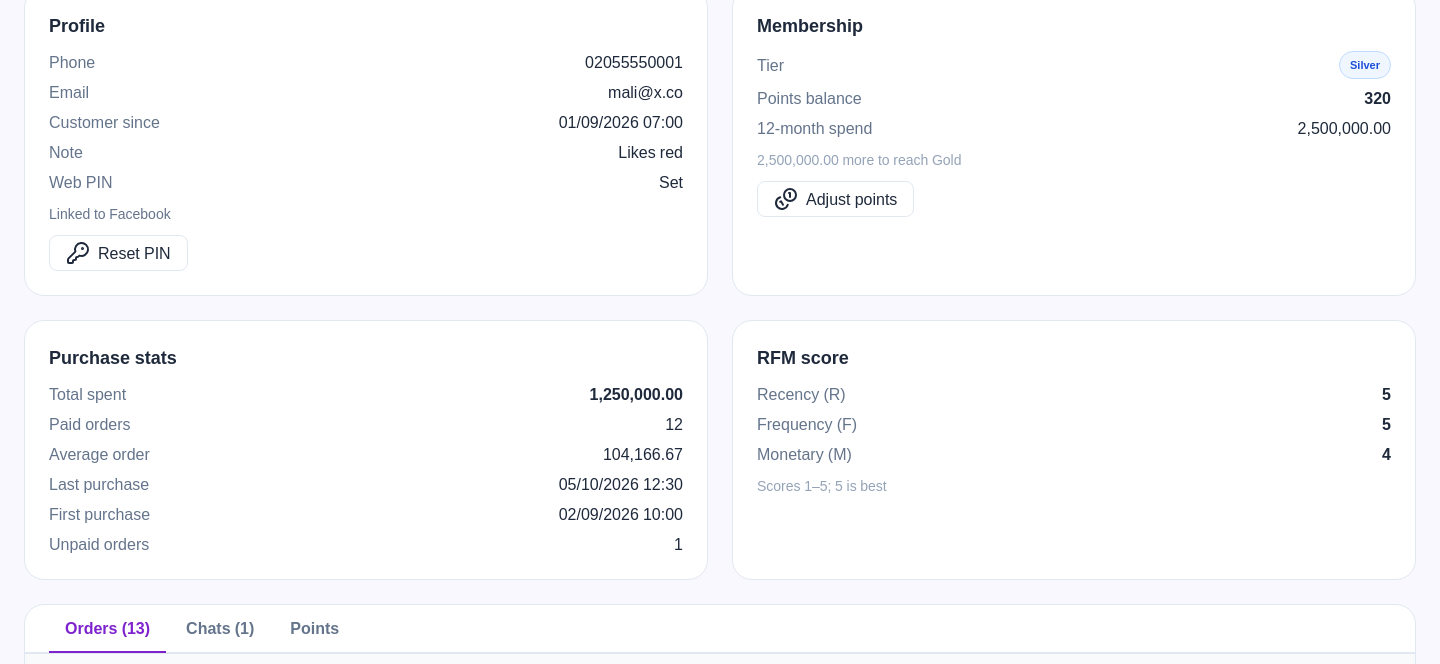
Test: CustomerDetail › ແຖບແຕ້ມ: ສະໝຸດພ້ອມເຄື່ອງໝາຍ, ລິ້ງບິນ ຫຼື ໝາຍເຫດ
What coordinates should you click on to do the following:
click the tab "Points"
I would click on:
 (315, 628)
Its box is [274,604,355,652].
(page scrolled)
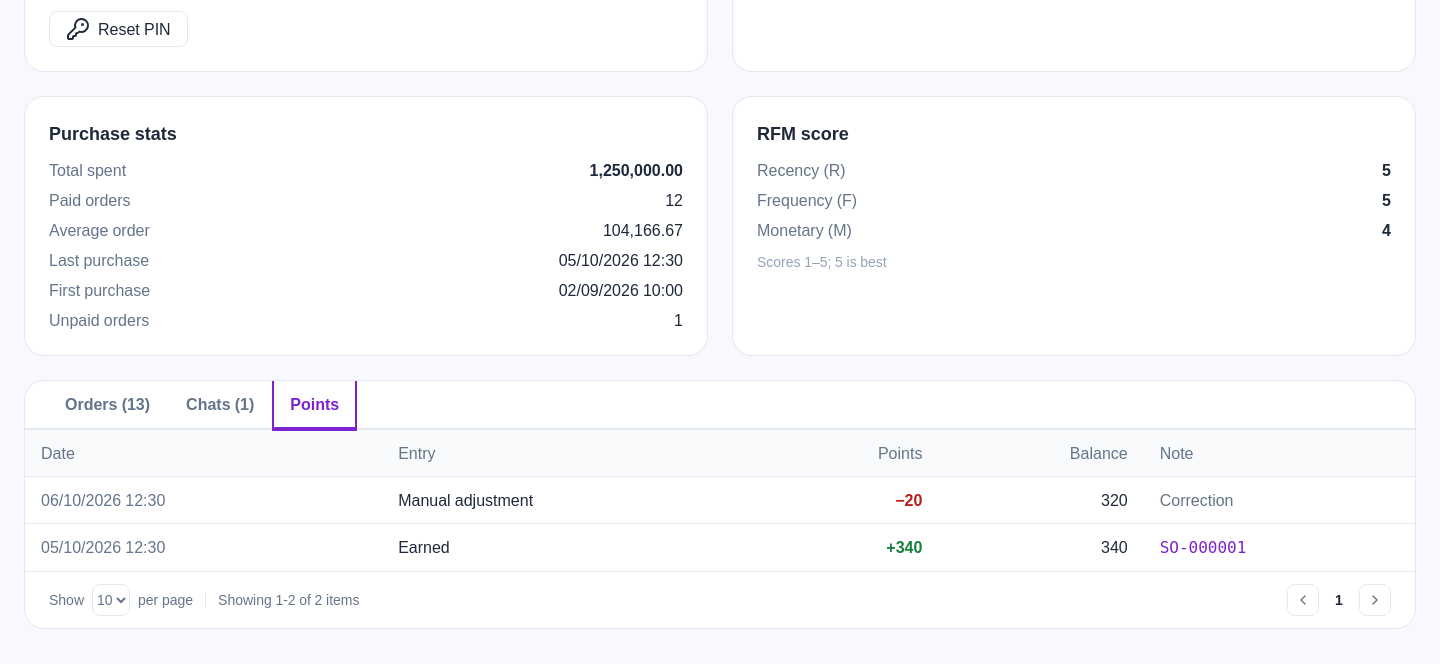
Check: the column heading "Earned" is shown, box [382,523,764,570]
Check: the text "+340" is shown, box [764,523,938,570]
Check: the text "−20" is shown, box [764,476,938,523]
